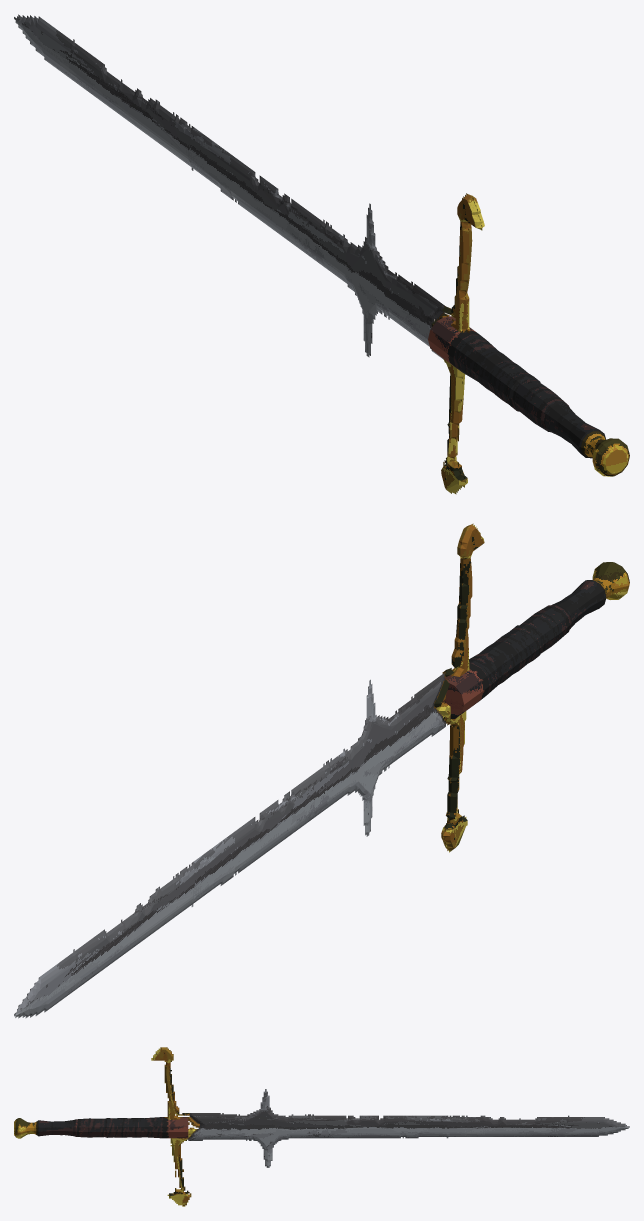
File: claymore.glb
3 renders of one model, top to bottom at view 1: azimuth 30°, elevation 25°; view 2: azimuth 150°, elevation 25°; view 3: azimuth 270°, elevation 25°, orthographic. The views are drawn at different scales.
Parts seen in each view (by area): view 1: blade, grip, guard, pommel; view 2: blade, grip, guard, pommel; view 3: blade, grip, guard, pommel.
Boxes of the visible parts, x1,y1,x2,y2 form: blade: (14,14,444,359); grip: (428,316,605,458); guard: (431,193,484,494); pommel: (581,431,629,476); blade: (14,673,445,1018); grip: (436,580,606,719); guard: (434,523,484,852); pommel: (592,562,629,599); blade: (188,1089,629,1167); grip: (37,1117,188,1138); guard: (151,1047,199,1206); pommel: (14,1118,37,1138).
Bounding box in the file's own units: 0.0483 × 0.3962 × 1.39.
Materials: 2 (2 with a texture image).
